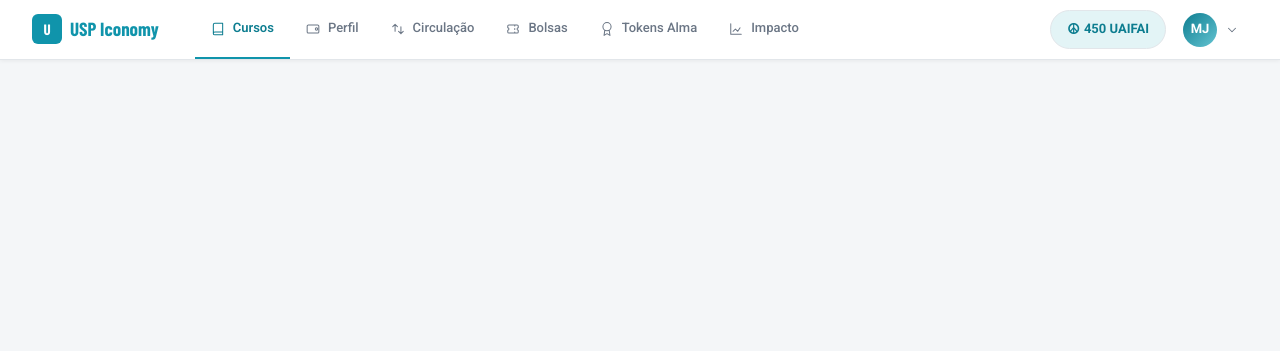
Test: SiteHeader › keeps real links in the real tree
Click the button with aria-label "Menu da conta: Maria Joana": (1213, 30) [1178, 8, 1248, 52]
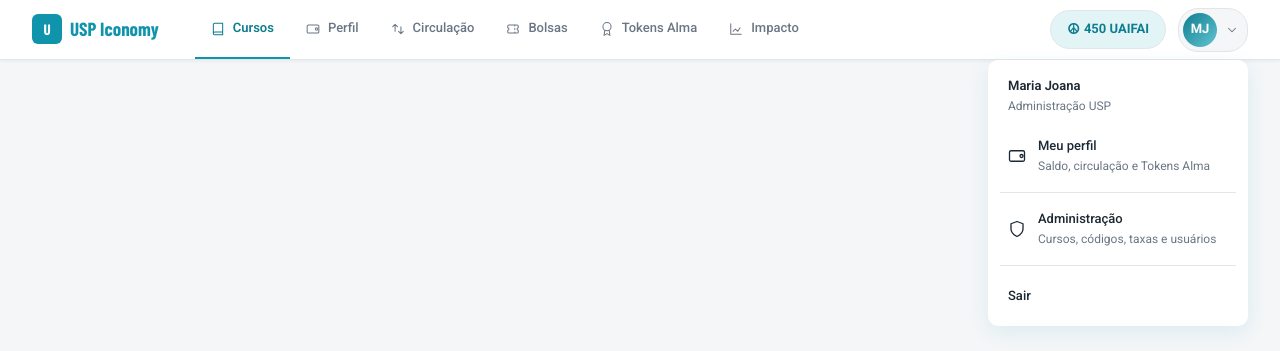
expect the menu item "Sair" is shown: met, box [996, 274, 1240, 318]
